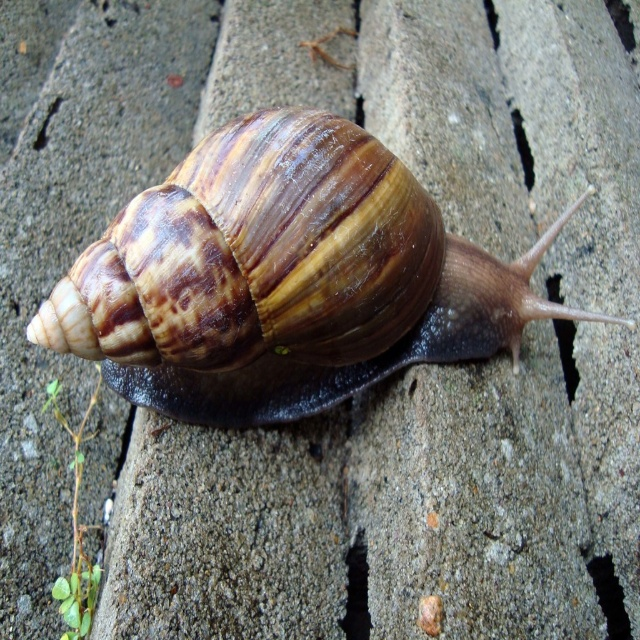Snail: (24, 100, 638, 432)
